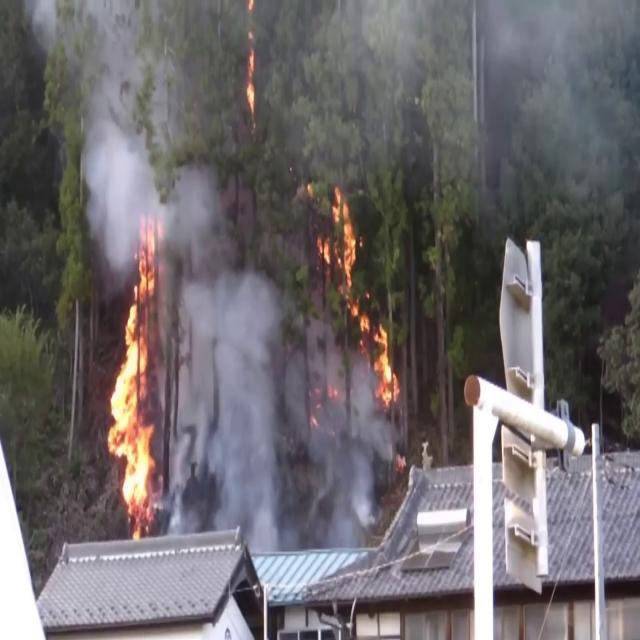Fire: (318, 182, 396, 414), (102, 245, 164, 530)
Smoke: (172, 298, 404, 566), (72, 0, 241, 280), (482, 0, 640, 196)
